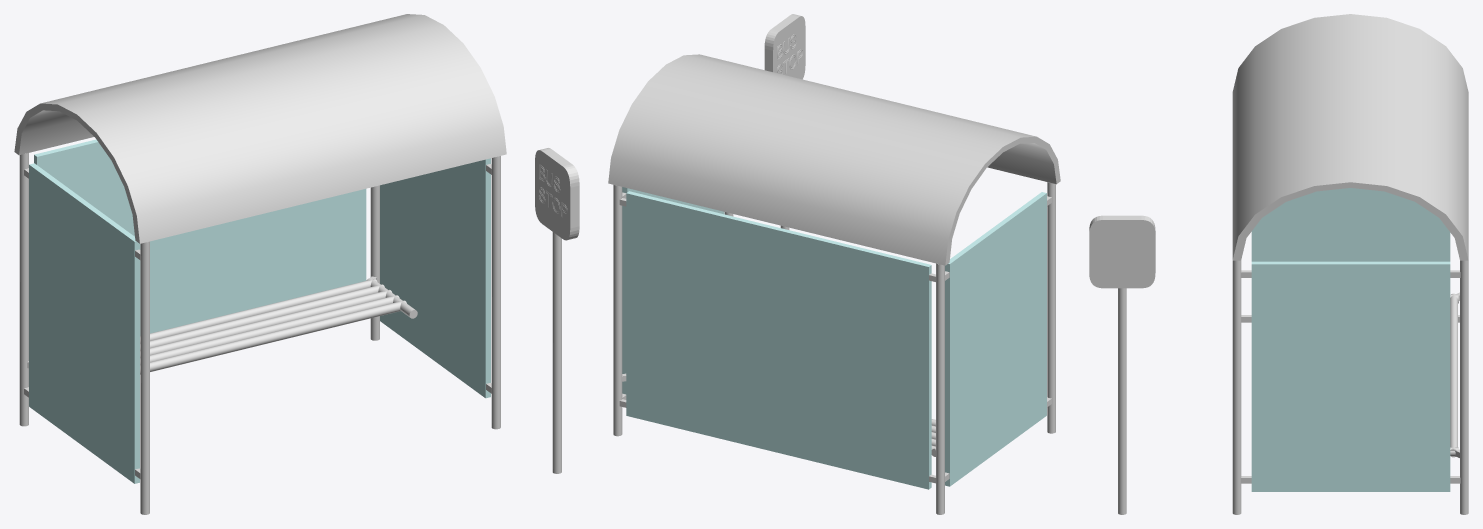
The model's file is BusStopObject.FBX.
3 views of the same model, side by side, from view 1: azimuth 30°, elevation 25°; view 2: azimuth 150°, elevation 25°; view 3: azimuth 270°, elevation 25° (orthographic). The views are drawn at different scales.
Visible parts, largest first — view 1: Tube001, Box001, Box003, Box002, Box018, Cylinder003, Cylinder006, Cylinder013, Cylinder005, Cylinder014, Cylinder010, Cylinder009 (+3 smaller); view 2: Box003, Tube001, Box001, Cylinder004, Cylinder005, Box018, Cylinder006, Box002; view 3: Box002, Tube001, Box001, Box018, Cylinder003, Cylinder004, Cylinder014, Cylinder007.
Part boxes in pixels (x1=…): Tube001: x1=14, y1=14, x2=506, y2=243; Box001: x1=29, y1=163, x2=139, y2=483; Box003: x1=34, y1=139, x2=366, y2=335; Box002: x1=380, y1=158, x2=490, y2=398; Box018: x1=535, y1=148, x2=579, y2=240; Cylinder003: x1=491, y1=156, x2=500, y2=429; Cylinder006: x1=140, y1=241, x2=149, y2=514; Cylinder013: x1=140, y1=300, x2=406, y2=374; Cylinder005: x1=19, y1=153, x2=28, y2=426; Cylinder014: x1=552, y1=232, x2=561, y2=473; Cylinder010: x1=140, y1=295, x2=399, y2=364; Cylinder009: x1=140, y1=289, x2=391, y2=357; Box003: x1=626, y1=191, x2=931, y2=489; Tube001: x1=608, y1=54, x2=1060, y2=265; Box001: x1=945, y1=192, x2=1046, y2=486; Cylinder004: x1=613, y1=185, x2=622, y2=436; Cylinder005: x1=936, y1=263, x2=944, y2=514; Box018: x1=764, y1=14, x2=805, y2=79; Cylinder006: x1=1047, y1=182, x2=1055, y2=433; Box002: x1=622, y1=187, x2=724, y2=394; Box002: x1=1251, y1=261, x2=1450, y2=491; Tube001: x1=1232, y1=14, x2=1468, y2=260; Box001: x1=1251, y1=188, x2=1450, y2=261; Box018: x1=1089, y1=215, x2=1155, y2=288; Cylinder003: x1=1232, y1=260, x2=1241, y2=514; Cylinder004: x1=1460, y1=260, x2=1468, y2=514; Cylinder014: x1=1118, y1=288, x2=1126, y2=514; Cylinder007: x1=1450, y1=293, x2=1457, y2=457.
Bounding box in the file's own units: 105 × 97.11 × 99.82.
